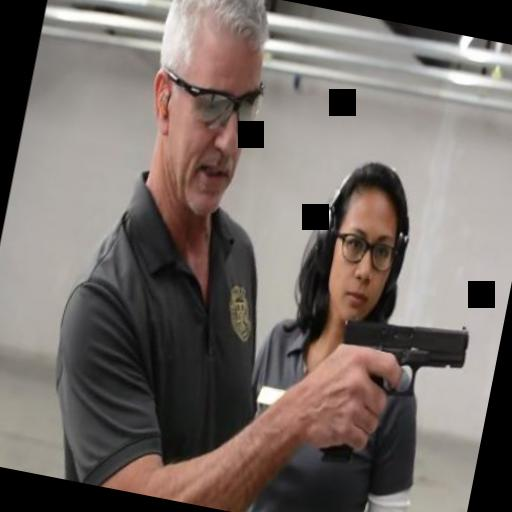Handgun: (315, 304, 473, 478)
